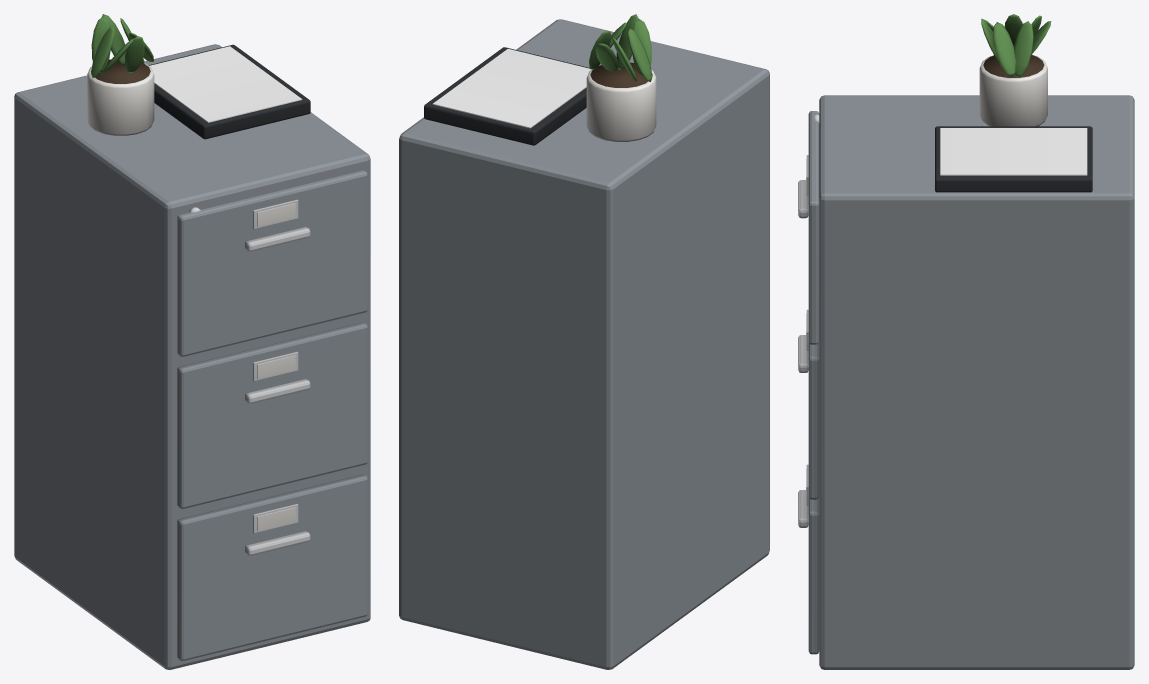
Rendered from filingCabinet.glb.
3 renders of one model, left to right at view 1: azimuth 30°, elevation 25°; view 2: azimuth 150°, elevation 25°; view 3: azimuth 270°, elevation 25°, orthographic. The views are drawn at different scales.
Parts seen in each view (by area): view 1: filingCabinet, drawer; view 2: filingCabinet; view 3: filingCabinet, drawer.
Boxes of the visible parts, bbox=[...] form: filingCabinet: bbox=[14, 14, 370, 669]; drawer: bbox=[177, 170, 367, 356]; filingCabinet: bbox=[399, 14, 769, 669]; filingCabinet: bbox=[798, 14, 1134, 669]; drawer: bbox=[798, 111, 819, 344].
Bounding box in the file's own units: 0.46 × 1.21 × 0.64.
